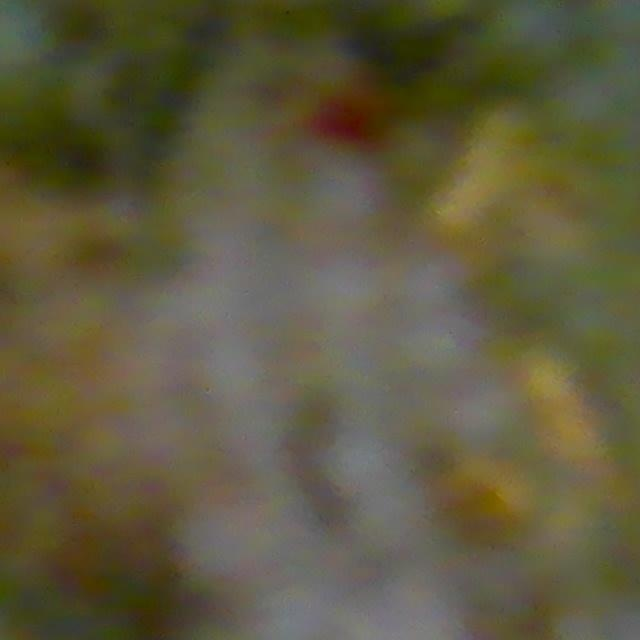SeaGrape: (196, 503, 278, 600), (440, 380, 528, 465), (486, 0, 577, 70), (348, 490, 424, 570), (324, 422, 404, 494), (386, 264, 450, 322), (398, 322, 477, 367)
